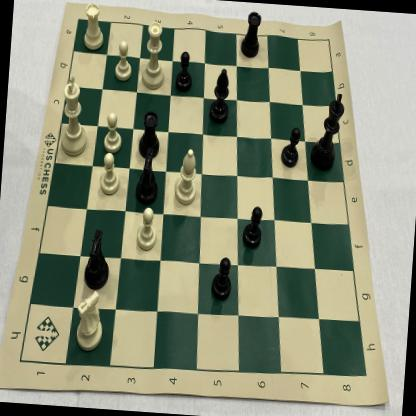bishop: (169, 142, 202, 210), (206, 64, 235, 131)
king: (306, 84, 349, 176), (54, 66, 94, 162)
knight: (70, 286, 112, 356), (82, 224, 114, 294), (131, 144, 164, 209)
pawn: (131, 200, 162, 254), (240, 200, 268, 254), (209, 254, 237, 304), (96, 149, 124, 198), (98, 108, 125, 156), (112, 40, 138, 87), (171, 48, 196, 94), (279, 124, 304, 170)
queen: (140, 16, 171, 95)
rook: (136, 108, 166, 167), (78, 0, 109, 56), (238, 9, 264, 64)
